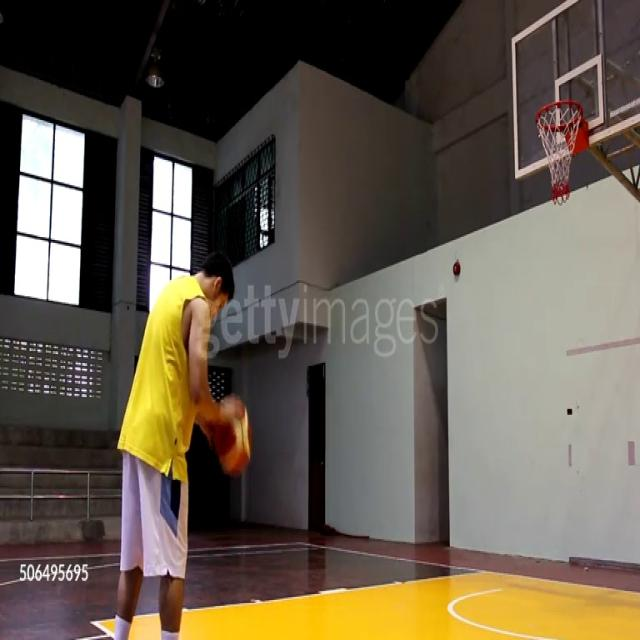ball: (208, 403, 254, 476)
